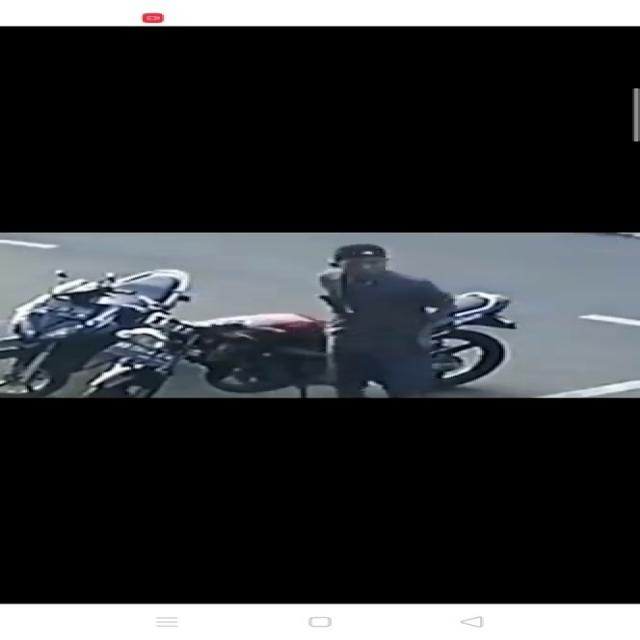pencurian: (91, 243, 524, 398)
